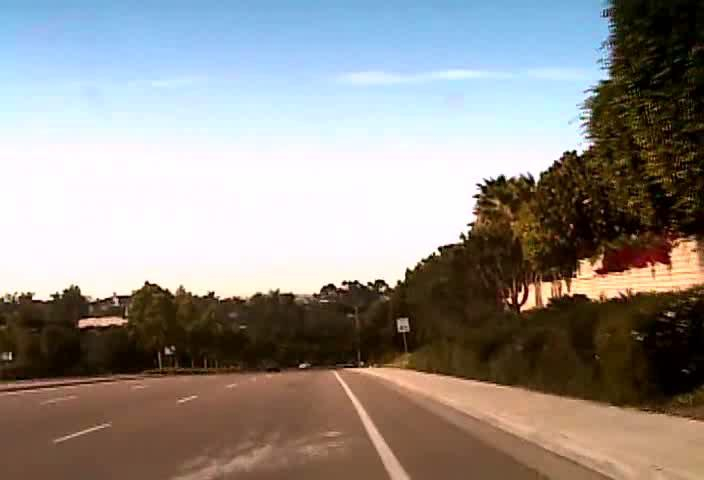speedLimitUrdbl: (397, 317, 409, 332)
